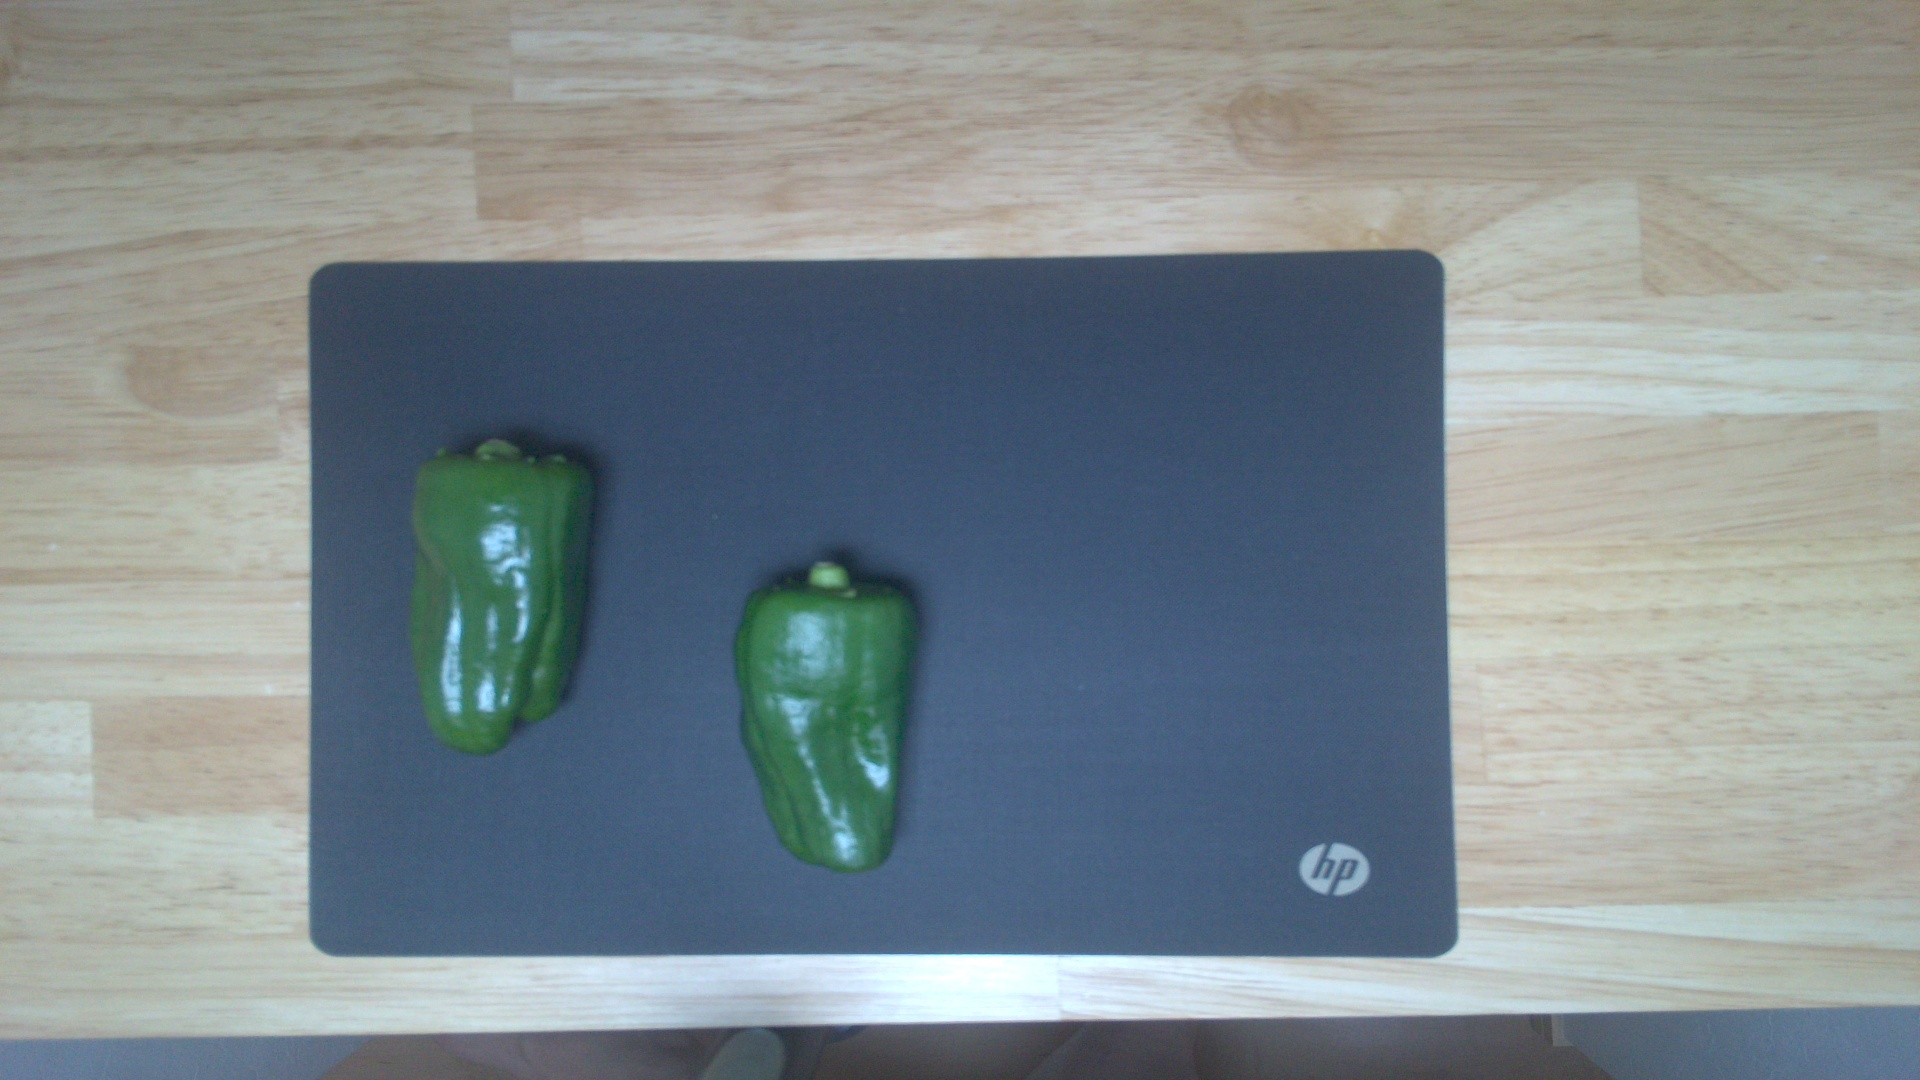Piman: (731, 560, 928, 876), (402, 435, 599, 752)
